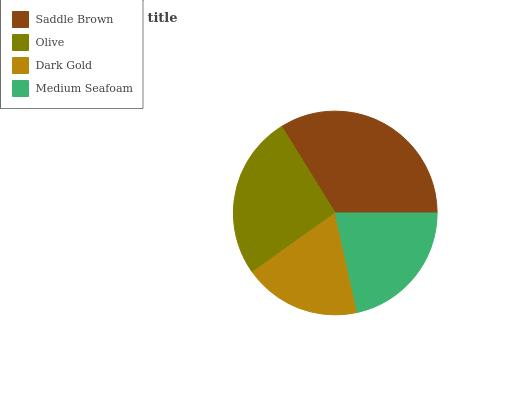legend: (0, 0, 145, 109)
sector: (281, 109, 438, 213), (234, 126, 336, 271), (246, 212, 357, 314), (335, 212, 439, 312)
